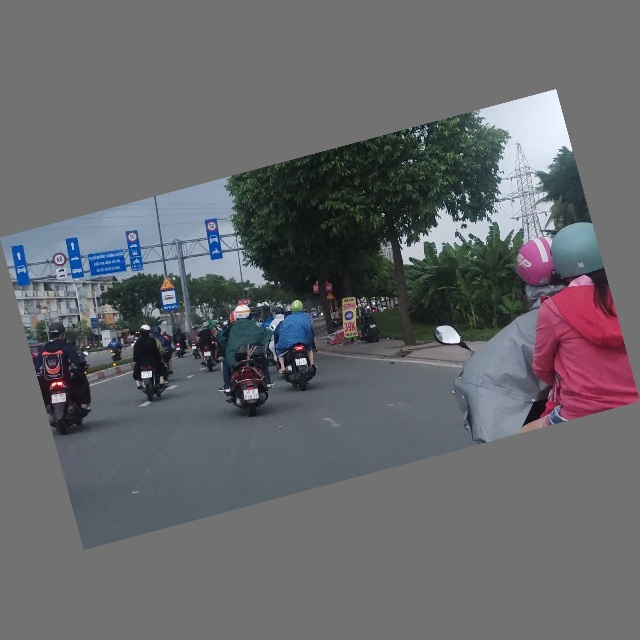I.434a: (158, 289, 180, 313)
P.127*50: (205, 220, 219, 234), (126, 231, 139, 244)
P.127*60: (51, 251, 68, 269)
S.505a*Xe tai va cong: (55, 267, 69, 281)
W.201b: (157, 276, 176, 293)
